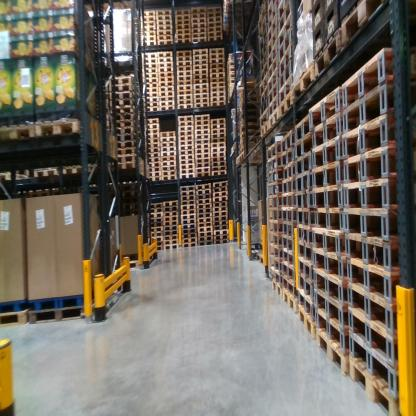pallet: (268, 93, 297, 303), (339, 48, 410, 116), (344, 112, 415, 159), (347, 309, 400, 371), (344, 279, 401, 336), (338, 83, 415, 125), (349, 331, 399, 394), (347, 231, 413, 277), (344, 142, 414, 185), (345, 204, 415, 246), (345, 172, 414, 213), (350, 361, 400, 413), (346, 258, 398, 307), (31, 291, 99, 323), (339, 4, 388, 44), (314, 264, 356, 310), (313, 329, 352, 375), (291, 55, 324, 107), (313, 284, 349, 331), (316, 309, 351, 357), (23, 115, 83, 142), (309, 81, 344, 125), (311, 133, 349, 171), (315, 29, 343, 78), (315, 221, 346, 263), (0, 115, 37, 150), (313, 247, 346, 283), (311, 119, 347, 151), (0, 298, 32, 331), (311, 165, 349, 189), (314, 208, 345, 236), (34, 154, 61, 186), (314, 188, 356, 208), (292, 109, 314, 147), (294, 145, 315, 179), (293, 132, 316, 160), (277, 43, 295, 77), (277, 124, 296, 156), (276, 75, 295, 107), (297, 255, 316, 286), (297, 292, 315, 324), (294, 275, 316, 300), (62, 162, 90, 181), (277, 12, 293, 45), (276, 59, 293, 90), (297, 308, 313, 340), (297, 220, 315, 247), (235, 153, 262, 170), (296, 167, 312, 195), (281, 287, 297, 315), (279, 28, 295, 56), (113, 161, 140, 177), (12, 164, 32, 185), (298, 204, 315, 228), (280, 264, 297, 288), (281, 234, 298, 258), (280, 146, 297, 170), (265, 68, 280, 95), (107, 74, 138, 87), (282, 247, 301, 268), (265, 235, 281, 259), (281, 278, 300, 298), (268, 225, 282, 252), (266, 140, 282, 163), (295, 190, 312, 211), (268, 252, 283, 275), (279, 190, 299, 207), (280, 1, 293, 27), (266, 29, 280, 53), (111, 88, 139, 100), (268, 57, 281, 82), (266, 180, 284, 198), (297, 243, 312, 264), (280, 222, 301, 237), (267, 45, 280, 69), (106, 113, 137, 123), (123, 252, 141, 269), (276, 0, 291, 20), (108, 83, 138, 93), (267, 95, 280, 118), (113, 140, 140, 151), (280, 163, 296, 181), (268, 207, 284, 225), (267, 80, 279, 104), (109, 95, 137, 105), (284, 209, 301, 225), (281, 178, 297, 195), (238, 89, 255, 105), (109, 119, 139, 128), (269, 164, 283, 183), (255, 248, 267, 270), (266, 154, 282, 170), (268, 190, 282, 208), (269, 218, 283, 236), (237, 107, 255, 121), (110, 105, 138, 114), (228, 77, 255, 86), (267, 9, 278, 31), (260, 116, 272, 136), (115, 128, 139, 138), (225, 87, 238, 105), (267, 19, 277, 42), (257, 4, 267, 27), (268, 267, 280, 286), (238, 123, 257, 135), (236, 141, 256, 152), (260, 108, 271, 127), (270, 111, 282, 128), (238, 100, 255, 112), (1, 165, 9, 190), (240, 132, 258, 143), (259, 54, 268, 75), (265, 1, 276, 18), (258, 18, 269, 35), (113, 148, 139, 155), (259, 29, 268, 49), (180, 204, 196, 215), (226, 57, 240, 69), (158, 67, 173, 78), (258, 91, 267, 109), (113, 155, 139, 161), (257, 46, 266, 62), (162, 238, 178, 247), (163, 223, 180, 231), (160, 131, 177, 139), (113, 136, 140, 141), (196, 184, 211, 193), (260, 100, 268, 116), (163, 210, 179, 218), (163, 242, 179, 250), (196, 221, 212, 229), (196, 212, 212, 220), (178, 118, 194, 126), (176, 49, 192, 57), (209, 46, 225, 54), (260, 65, 267, 83), (227, 53, 241, 62), (148, 202, 162, 211), (180, 242, 198, 249), (193, 190, 211, 197), (164, 203, 179, 211), (196, 203, 211, 211), (195, 167, 210, 175), (179, 219, 196, 226), (211, 205, 228, 212), (162, 176, 179, 183), (160, 161, 177, 168), (228, 72, 241, 81), (178, 224, 197, 230), (212, 238, 231, 244), (259, 80, 267, 94), (162, 220, 178, 227), (179, 190, 195, 197), (212, 181, 228, 188), (211, 197, 227, 204), (210, 141, 226, 148), (195, 148, 211, 155), (195, 130, 211, 137), (178, 125, 194, 132), (161, 150, 177, 157), (158, 86, 174, 93), (210, 102, 226, 109), (239, 118, 257, 124), (210, 160, 228, 166), (181, 200, 196, 207), (213, 187, 228, 194), (211, 151, 226, 158), (144, 104, 159, 111), (193, 88, 208, 95), (210, 86, 225, 93), (191, 22, 206, 29), (150, 211, 163, 219), (211, 171, 228, 177), (195, 172, 212, 178), (178, 173, 195, 179), (143, 118, 160, 124), (143, 124, 160, 130), (210, 91, 227, 97), (211, 96, 225, 103), (210, 77, 224, 84), (177, 28, 191, 35), (157, 34, 171, 41), (163, 230, 179, 236), (162, 234, 178, 240), (197, 242, 213, 248), (196, 228, 212, 234), (211, 128, 227, 134), (195, 143, 211, 149), (178, 115, 194, 121), (179, 164, 195, 170), (161, 166, 177, 172), (158, 93, 174, 99), (176, 60, 192, 66), (192, 49, 208, 55), (192, 54, 208, 60), (207, 10, 223, 16), (191, 38, 207, 44), (174, 8, 190, 14), (156, 20, 172, 26), (156, 15, 172, 21), (142, 9, 155, 16), (163, 200, 178, 206), (196, 199, 211, 205), (196, 194, 211, 200), (212, 192, 227, 198), (210, 118, 225, 124), (211, 147, 226, 153), (195, 158, 210, 164), (195, 134, 210, 140), (179, 154, 194, 160), (161, 142, 176, 148), (192, 69, 207, 75), (193, 79, 208, 85), (210, 82, 225, 88), (209, 53, 224, 59), (191, 32, 206, 38), (191, 18, 206, 24), (143, 35, 158, 41), (178, 185, 195, 190), (180, 237, 197, 242), (195, 218, 212, 223), (211, 212, 228, 217), (211, 166, 228, 171), (158, 107, 175, 112), (177, 105, 194, 110), (177, 100, 194, 105), (164, 213, 178, 219), (150, 222, 164, 228), (196, 163, 210, 169), (196, 139, 210, 145), (195, 115, 209, 121), (161, 137, 175, 143), (146, 158, 160, 164), (144, 51, 156, 58), (144, 58, 158, 64), (143, 73, 157, 79), (208, 21, 222, 27), (208, 27, 222, 33), (191, 7, 205, 13), (180, 195, 196, 200), (196, 209, 212, 214), (212, 200, 228, 205), (213, 229, 229, 234), (211, 157, 227, 162), (194, 126, 210, 131), (195, 121, 211, 126), (178, 145, 194, 150), (161, 147, 177, 152), (177, 90, 193, 95), (192, 60, 208, 65), (209, 64, 225, 69), (174, 14, 190, 19), (157, 41, 173, 46), (142, 41, 158, 46), (146, 138, 159, 144), (145, 91, 158, 97), (211, 134, 226, 139), (178, 131, 193, 136), (178, 136, 193, 141), (162, 171, 177, 176), (161, 157, 176, 162), (143, 97, 158, 102), (158, 53, 173, 58), (158, 62, 173, 67), (159, 81, 174, 86), (177, 85, 192, 90), (177, 76, 192, 81), (177, 71, 192, 76), (177, 66, 192, 71), (194, 99, 209, 104), (194, 104, 209, 109), (210, 73, 225, 78), (208, 16, 223, 21), (157, 25, 172, 30), (157, 29, 172, 34), (156, 10, 171, 15), (180, 233, 198, 237), (148, 209, 162, 214), (182, 229, 196, 234), (197, 232, 211, 237), (178, 80, 192, 85), (208, 37, 222, 42), (192, 28, 206, 33), (192, 14, 206, 19), (176, 19, 190, 24), (143, 26, 157, 31), (212, 221, 229, 225), (212, 234, 229, 238), (210, 124, 227, 128), (150, 219, 163, 224), (147, 148, 160, 153), (147, 153, 160, 158), (148, 172, 161, 177), (148, 177, 161, 182), (145, 82, 158, 87), (144, 68, 157, 73), (177, 39, 190, 44), (142, 16, 155, 21), (146, 237, 162, 241), (180, 214, 196, 218), (213, 225, 229, 229), (210, 139, 226, 143), (178, 141, 194, 145), (178, 150, 194, 154), (179, 160, 195, 164), (179, 169, 195, 173), (177, 95, 193, 99), (176, 57, 192, 61), (192, 75, 208, 79), (193, 95, 209, 99), (209, 58, 225, 62), (229, 66, 238, 73), (150, 233, 162, 238), (150, 228, 162, 233), (198, 237, 213, 241), (213, 217, 228, 221), (195, 155, 210, 159), (146, 164, 161, 168), (143, 102, 158, 106), (159, 99, 174, 103), (159, 103, 174, 107), (192, 65, 207, 69), (210, 69, 225, 73), (176, 24, 191, 28), (143, 21, 155, 26), (146, 130, 160, 134), (146, 144, 160, 148), (144, 64, 158, 68), (158, 58, 172, 62), (207, 8, 221, 12), (208, 33, 222, 37), (143, 31, 157, 35), (146, 134, 159, 138), (148, 168, 161, 172), (145, 87, 158, 91), (177, 35, 190, 39), (156, 241, 163, 248), (193, 85, 208, 88), (159, 78, 173, 81), (145, 79, 158, 82), (156, 248, 163, 251)
